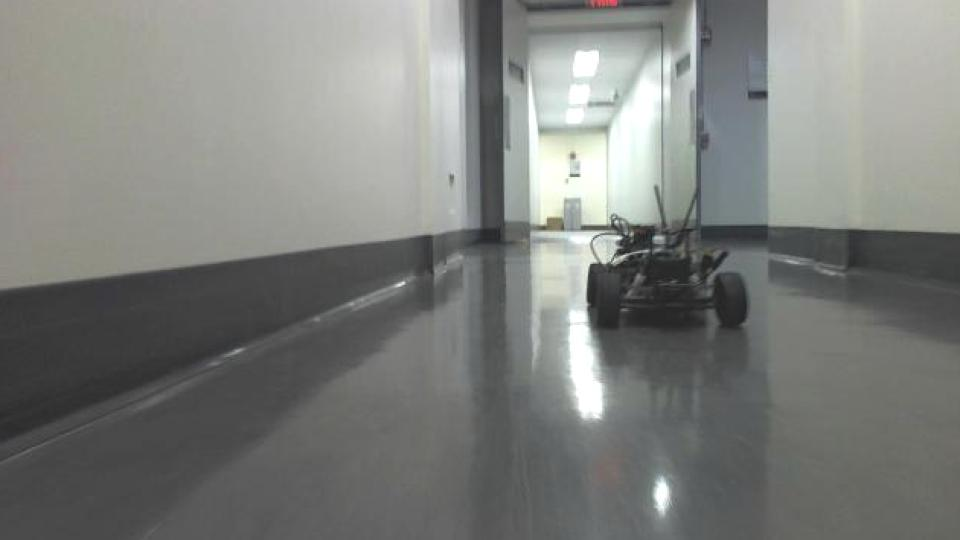car: (580, 183, 750, 333)
